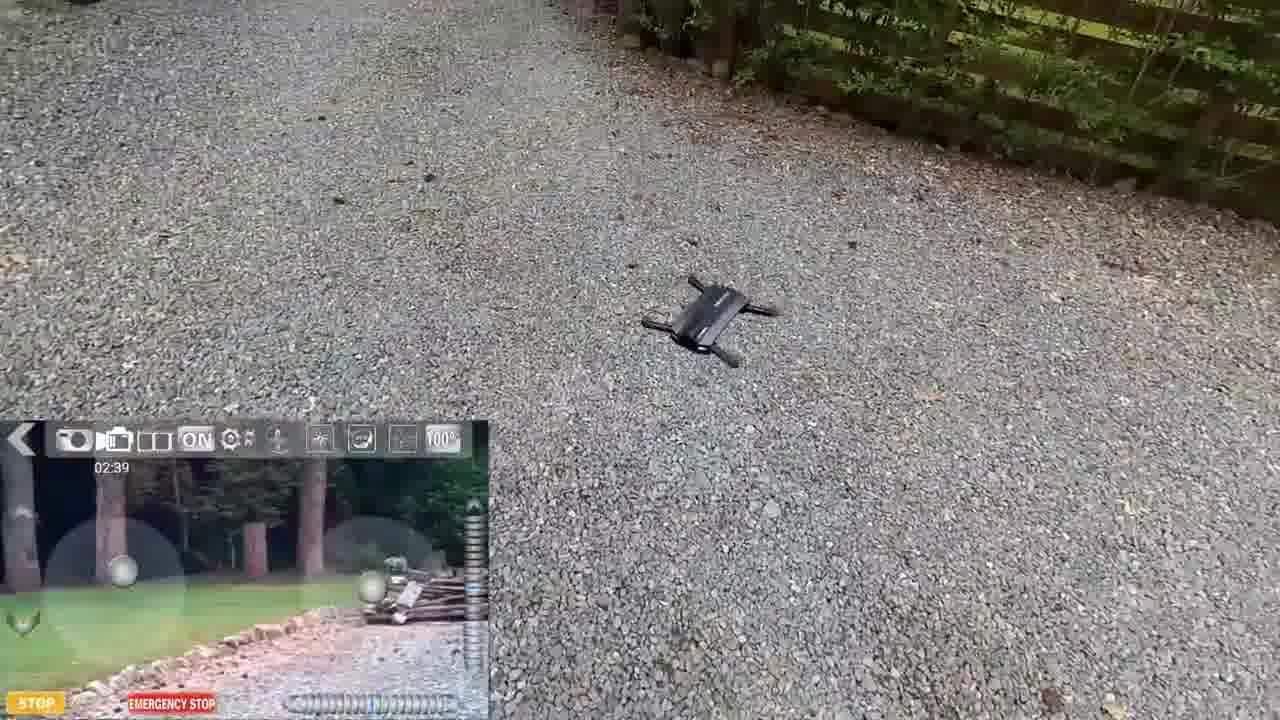drone: (625, 260, 796, 373)
